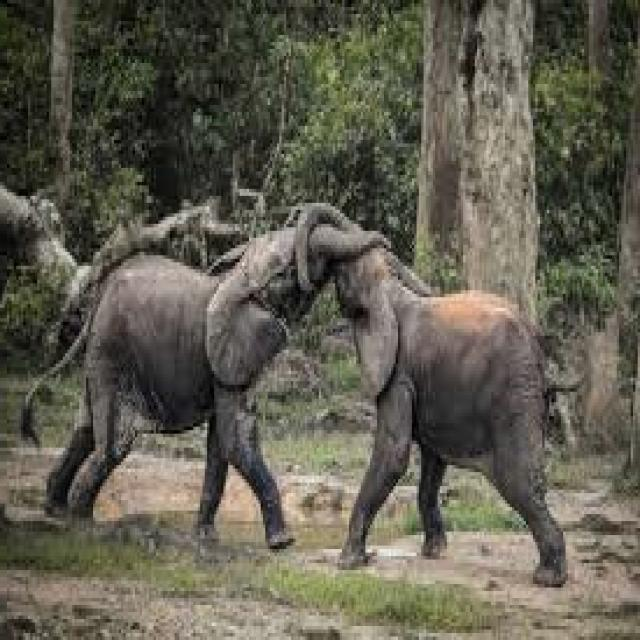elephant: (49, 206, 386, 546), (335, 248, 566, 581)
